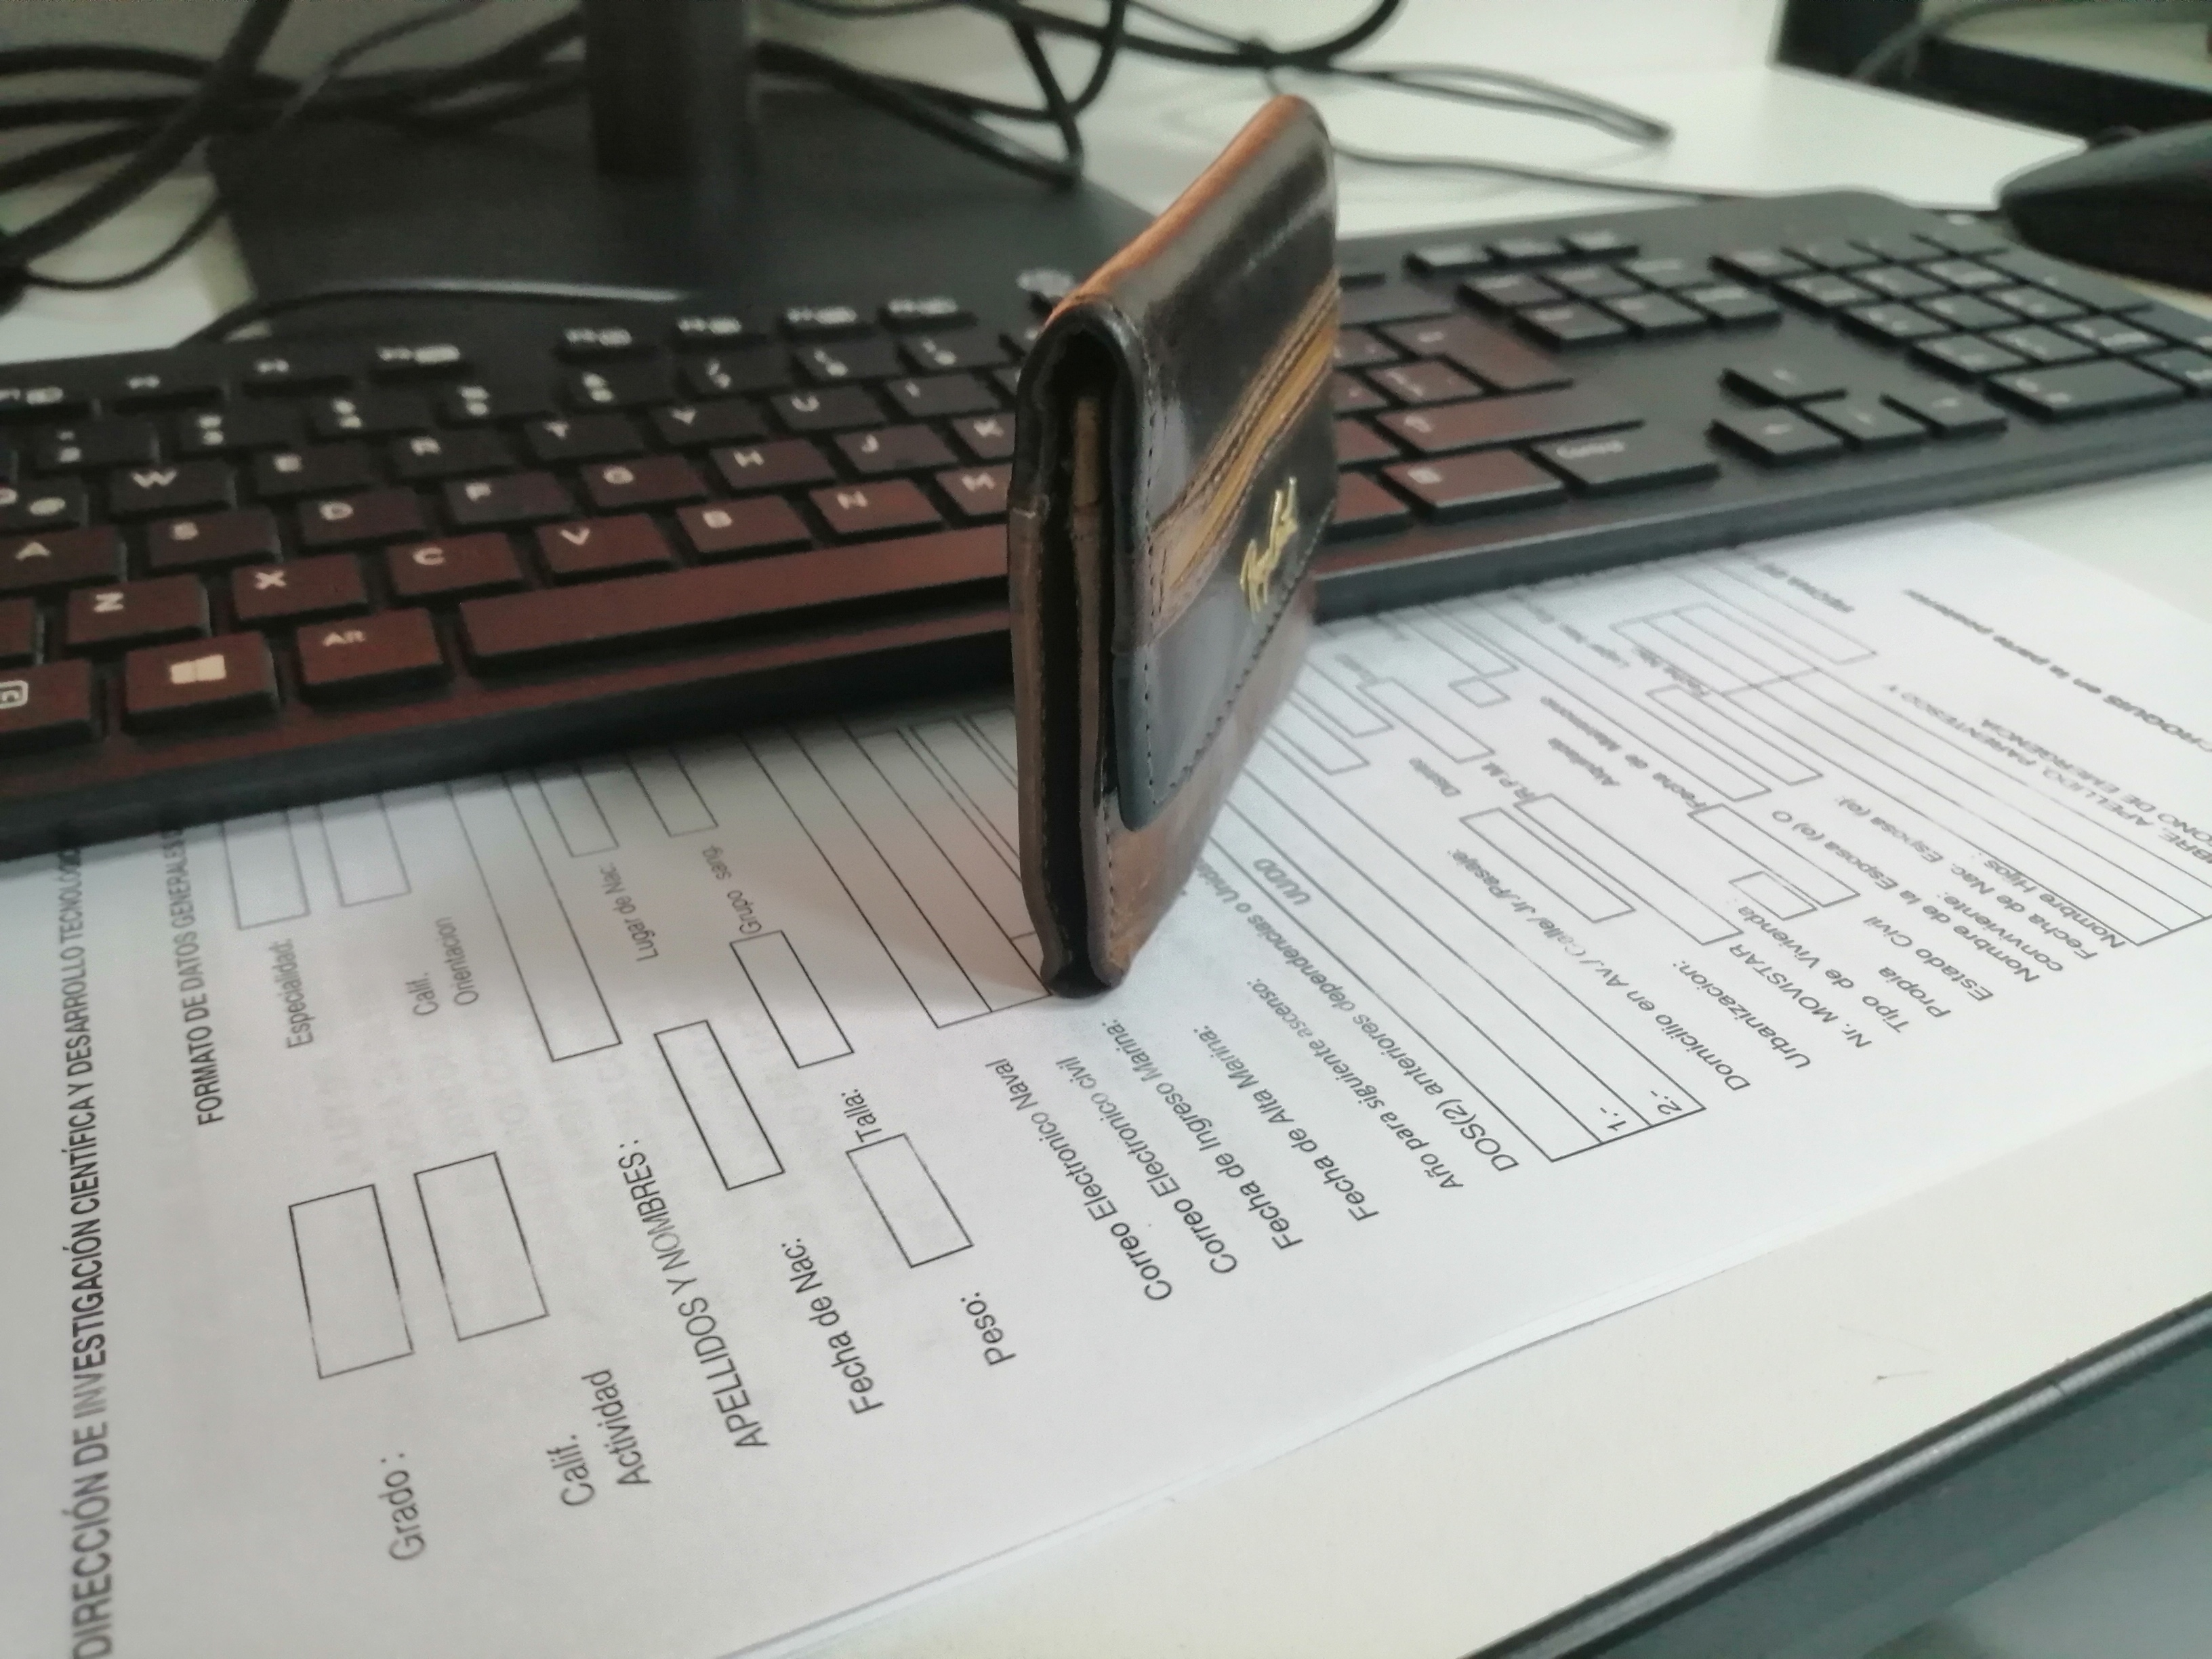monedero: (977, 80, 1369, 1065)
